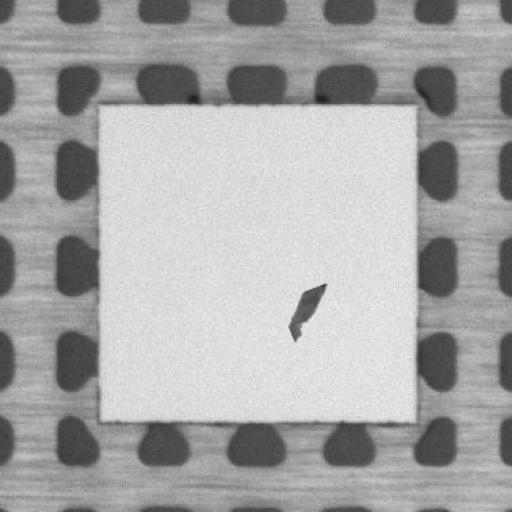DIE_INK: (284, 279, 327, 344)
